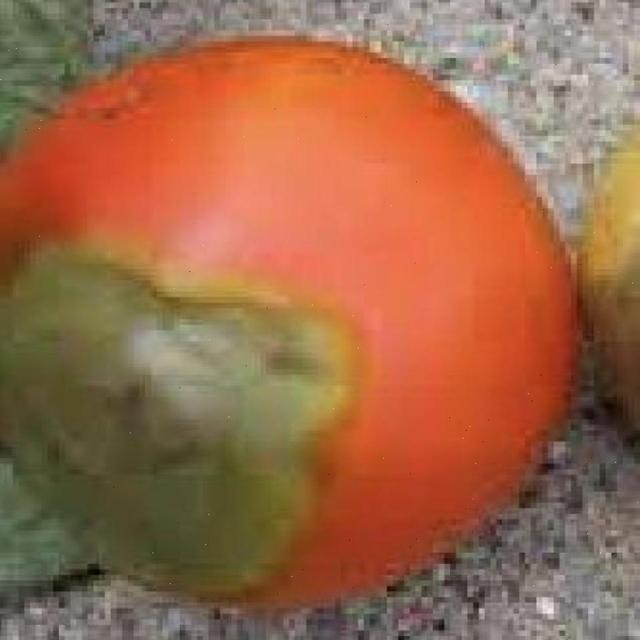Blossom End Rot Fruit: (0, 156, 244, 399)
